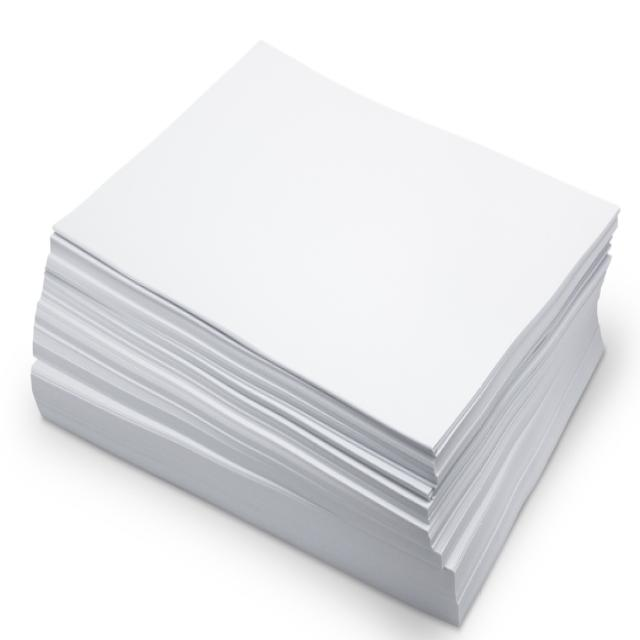biodegradable: (19, 26, 631, 636)
